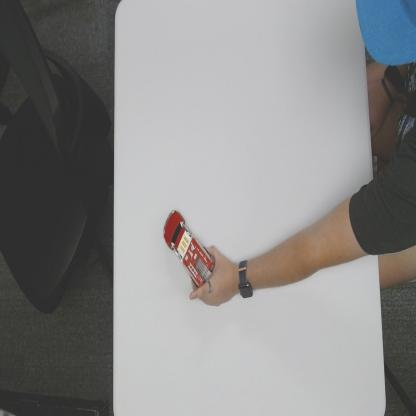Arm: (256, 175, 372, 293)
Firetruck: (161, 207, 214, 288)
Hand: (190, 241, 236, 310)
